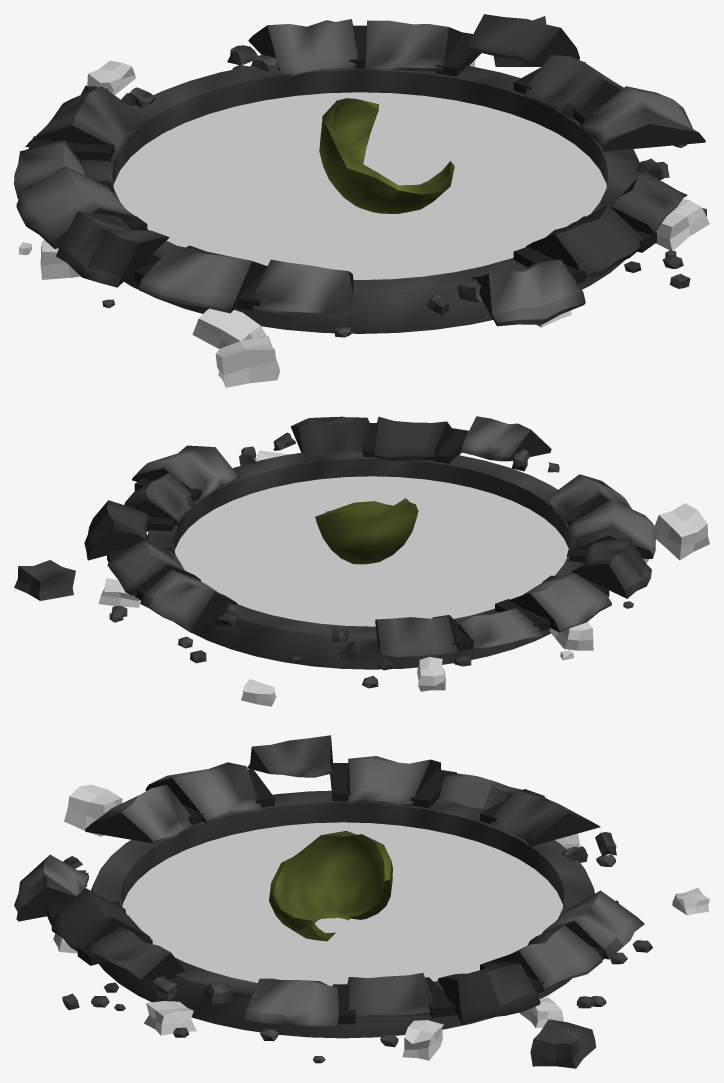
File: Arafount01a.glb
3 renders of one model, top to bottom at view 1: azimuth 30°, elevation 25°; view 2: azimuth 150°, elevation 25°; view 3: azimuth 270°, elevation 25°, orthographic. The views are drawn at different scales.
Visible parts, largest first — view 1: Arafount01a; view 2: Arafount01a; view 3: Arafount01a.
Boxes of the visible parts, x1,y1,x2,y2 form: Arafount01a: (14,14,709,387); Arafount01a: (14,416,709,706); Arafount01a: (14,735,709,1068).
Bounding box in the file's own units: 7.17 × 1.2 × 7.69.
